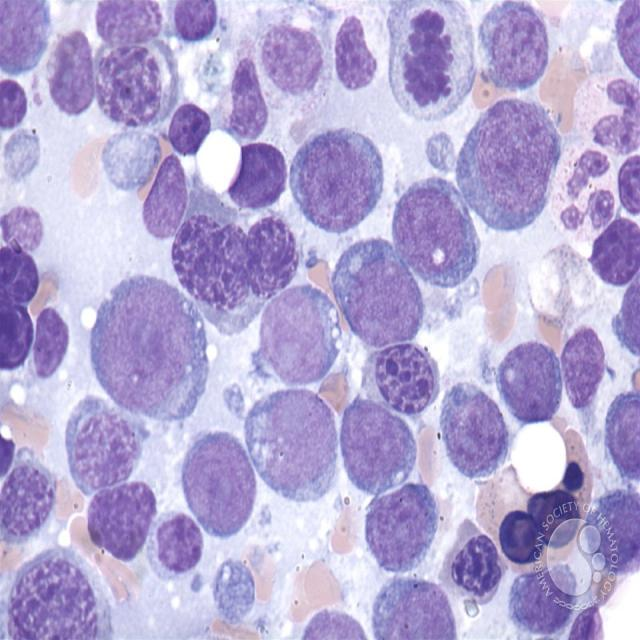ALL Negative Cells: (87, 276, 209, 422), (244, 391, 338, 508), (381, 5, 474, 120), (290, 130, 386, 230), (396, 183, 480, 291)
ALL Positive Cell: (169, 218, 250, 311), (82, 480, 158, 559), (362, 340, 436, 418), (244, 210, 296, 292), (446, 522, 500, 600), (501, 501, 544, 568), (0, 298, 33, 379), (0, 239, 43, 290), (169, 102, 208, 156)
